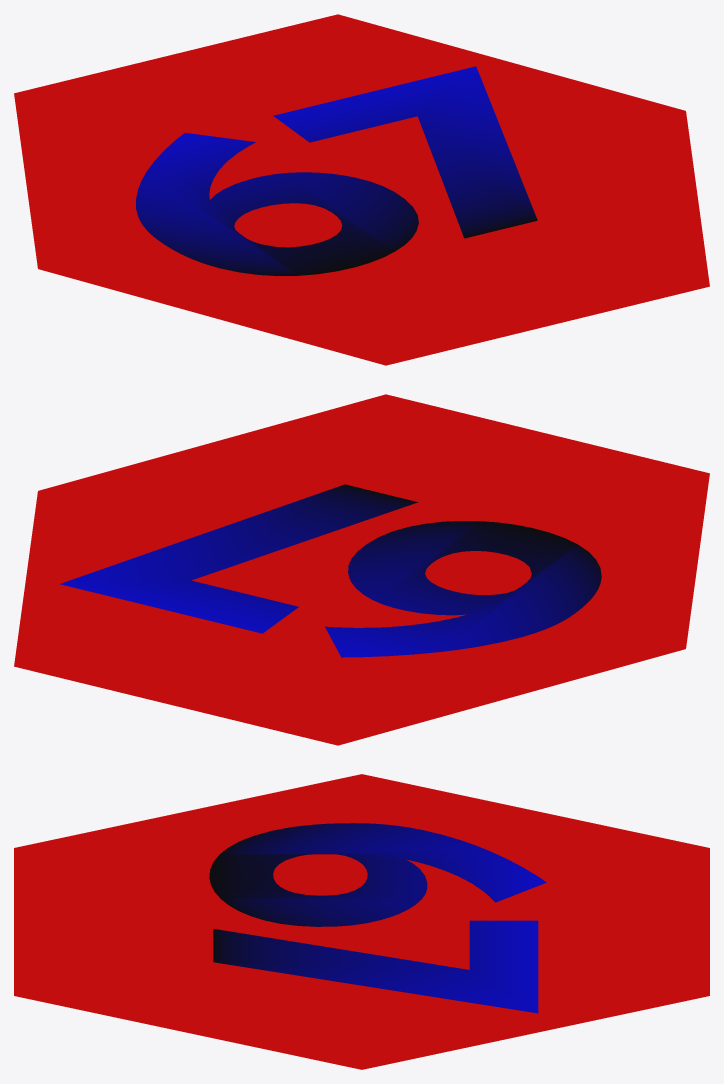
Rendered from SM_Number_67.fbx.
3 renders of one model, top to bottom at view 1: azimuth 30°, elevation 25°; view 2: azimuth 150°, elevation 25°; view 3: azimuth 270°, elevation 25°, orthographic. The views are drawn at different scales.
Parts seen in each view (by area): view 1: FBX_OUT; view 2: FBX_OUT; view 3: FBX_OUT.
Boxes of the visible parts, <box> form: FBX_OUT: <box>14,14,709,365</box>; FBX_OUT: <box>14,394,709,745</box>; FBX_OUT: <box>14,774,709,1069</box>.
Size of the model in its own units: 50 by 0.2917 by 49.71.
